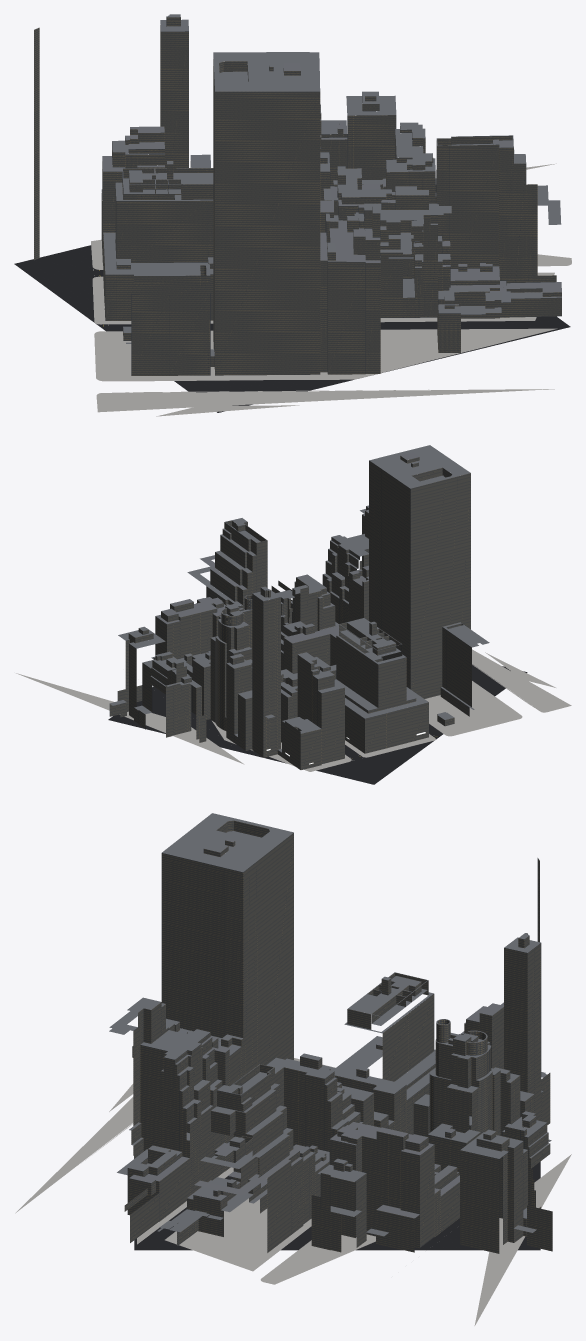
3 views of the same model, one above another, from view 1: azimuth 30°, elevation 25°; view 2: azimuth 150°, elevation 25°; view 3: azimuth 270°, elevation 25° (orthographic). The views are drawn at different scales.
Parts seen in each view (by area): view 1: t4_6, detail; view 2: t4_6, detail; view 3: t4_6, detail.
Part boxes in pixels (x1,y1,x2,y2): t4_6: (14, 14, 570, 412); detail: (91, 163, 571, 416); t4_6: (108, 445, 527, 784); detail: (16, 649, 571, 771); t4_6: (109, 813, 552, 1253); detail: (15, 1058, 571, 1325).
Size of the model in its own units: 425 by 197 by 343.
5 materials, 2 textured.
